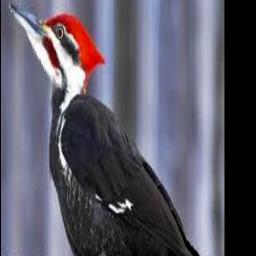Woodpecker: (8, 1, 222, 256)
